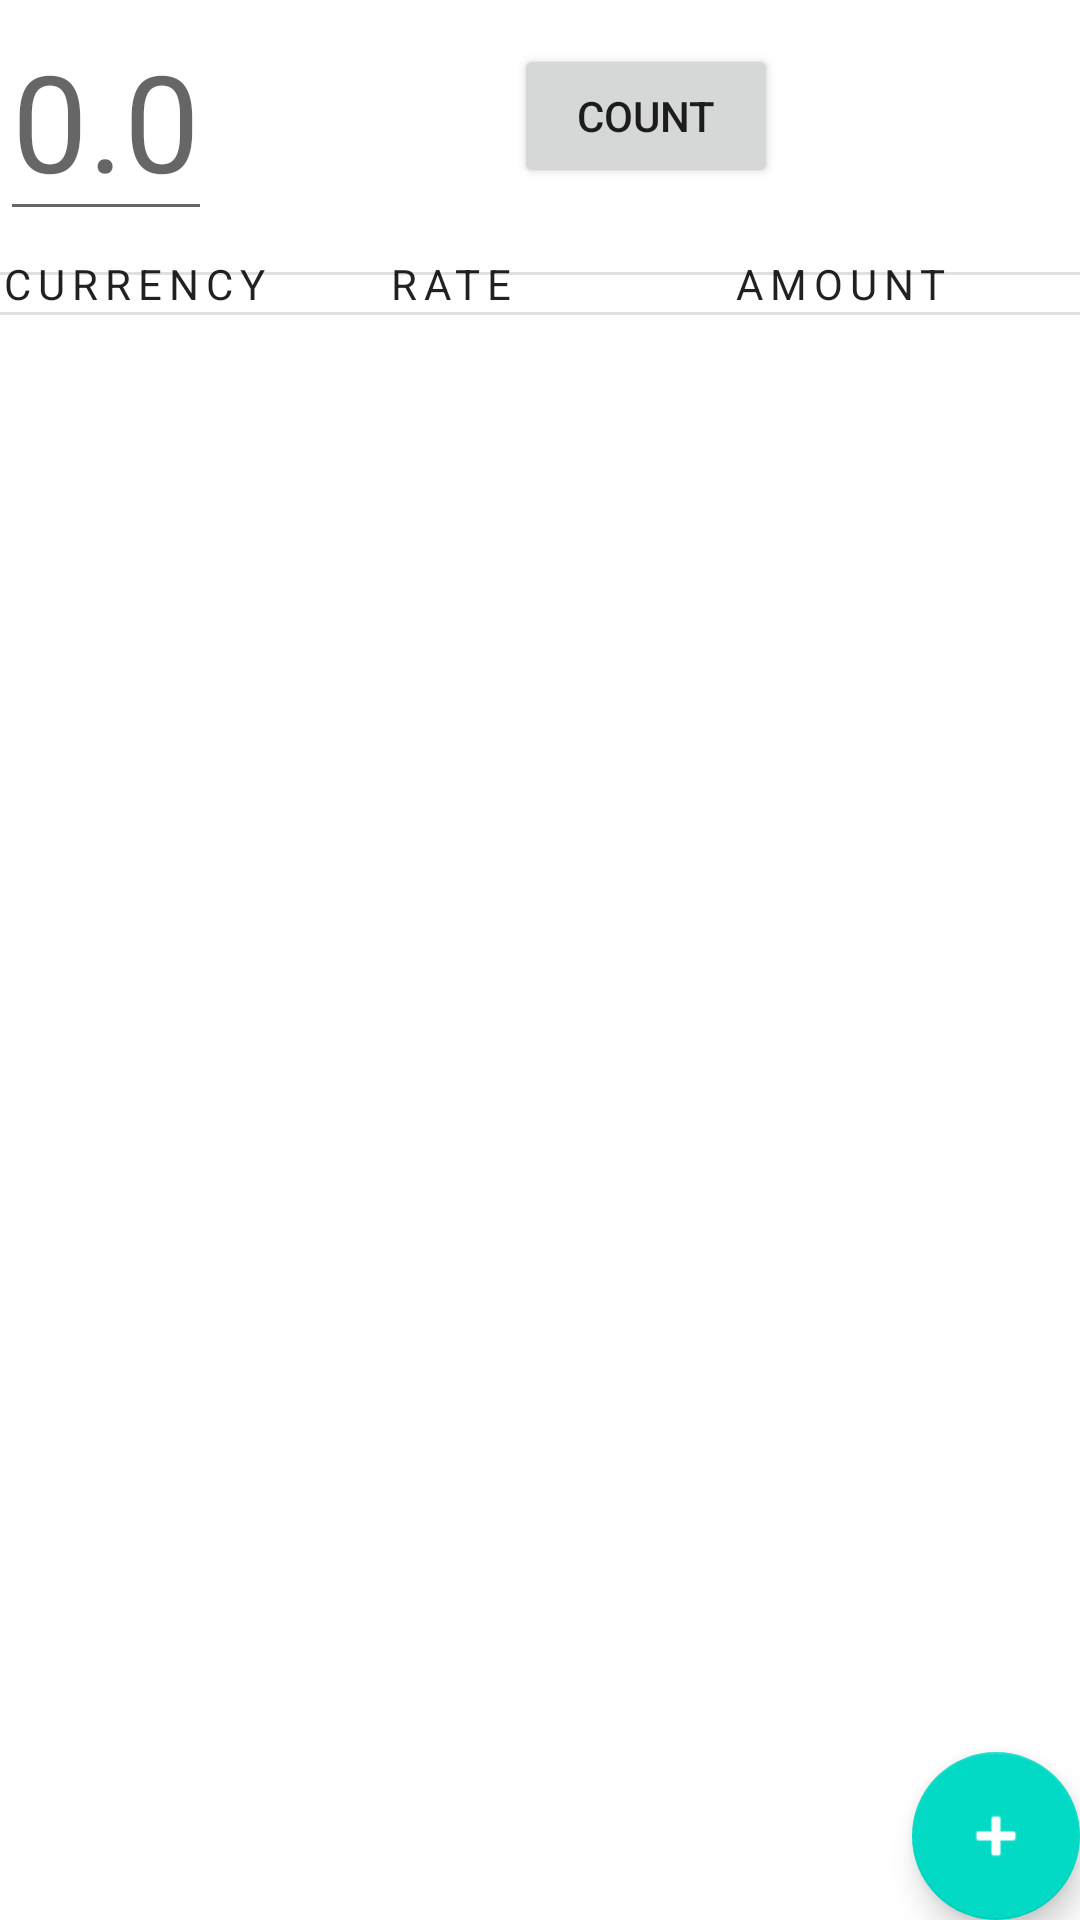

Screen size 1080*1920. Icon name, then its box in pixels as (x1=x1, y1=y1, x2=x2, y2=y2):
Add new currency: (x1=912, y1=1752, x2=1080, y2=1920)
